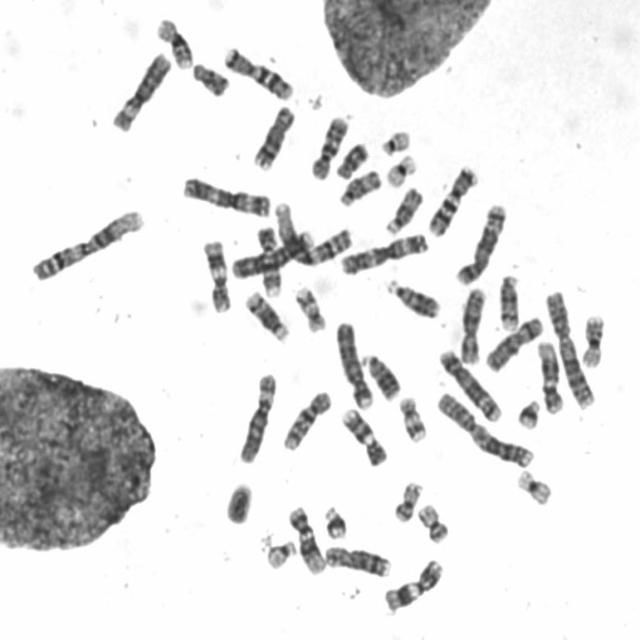A1: (25, 202, 147, 283), (269, 194, 355, 268)
A2: (431, 384, 536, 469), (540, 283, 597, 410)
A3: (176, 168, 273, 219), (334, 226, 431, 276)
B4: (228, 224, 316, 280), (330, 314, 376, 411)
B5: (432, 341, 504, 423), (450, 196, 510, 286)
C10: (277, 383, 334, 452), (306, 108, 351, 181)
C11: (378, 552, 446, 614), (198, 233, 232, 314)
C12: (284, 500, 328, 575), (532, 334, 566, 416)
C6: (106, 45, 173, 134), (233, 366, 279, 465)
C7: (218, 40, 296, 100), (423, 158, 480, 238)
C8: (248, 98, 298, 172), (320, 538, 394, 579)
C9: (336, 401, 389, 467), (251, 220, 284, 299)
D13: (382, 272, 442, 320), (355, 346, 403, 401)
D14: (239, 284, 291, 343), (493, 267, 522, 332)
D15: (380, 179, 426, 237), (333, 162, 382, 208)
E16: (151, 10, 195, 70), (575, 308, 608, 370)
E17: (290, 279, 328, 334), (394, 389, 429, 445)
E18: (187, 54, 231, 98), (330, 136, 371, 180)
F19: (512, 462, 554, 508), (381, 148, 419, 188)
F20: (412, 496, 452, 544), (388, 474, 425, 524)
G21: (318, 499, 348, 540), (512, 392, 543, 430)
G22: (260, 533, 298, 570), (375, 123, 413, 156)
X: (480, 309, 545, 373), (454, 280, 488, 366)
Y: (220, 476, 255, 526)
